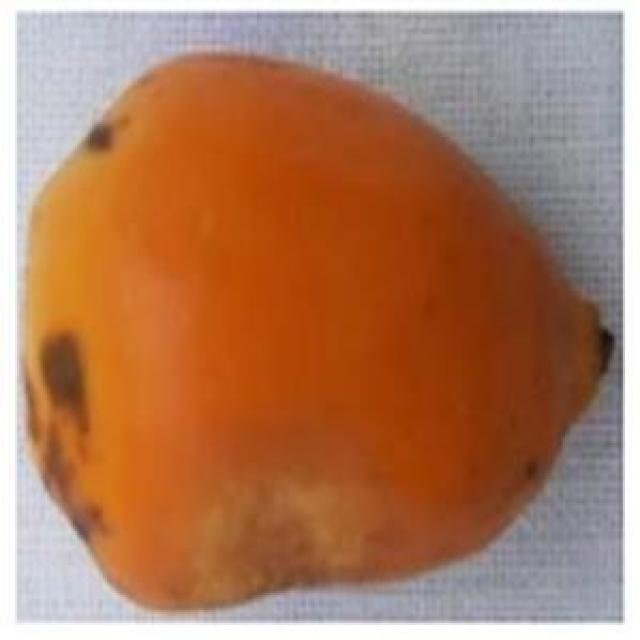good: (17, 54, 614, 616)
